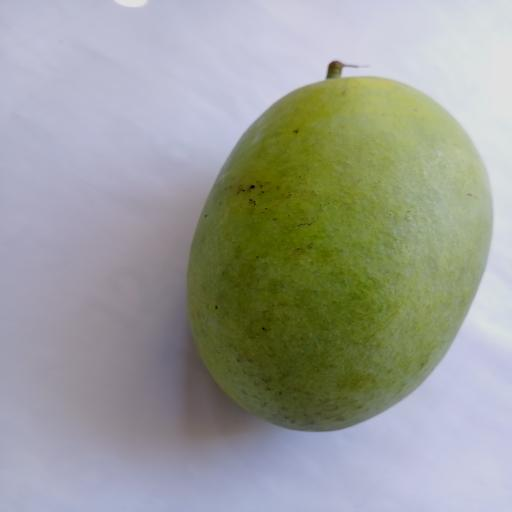mango-unripe: (171, 41, 506, 448)
